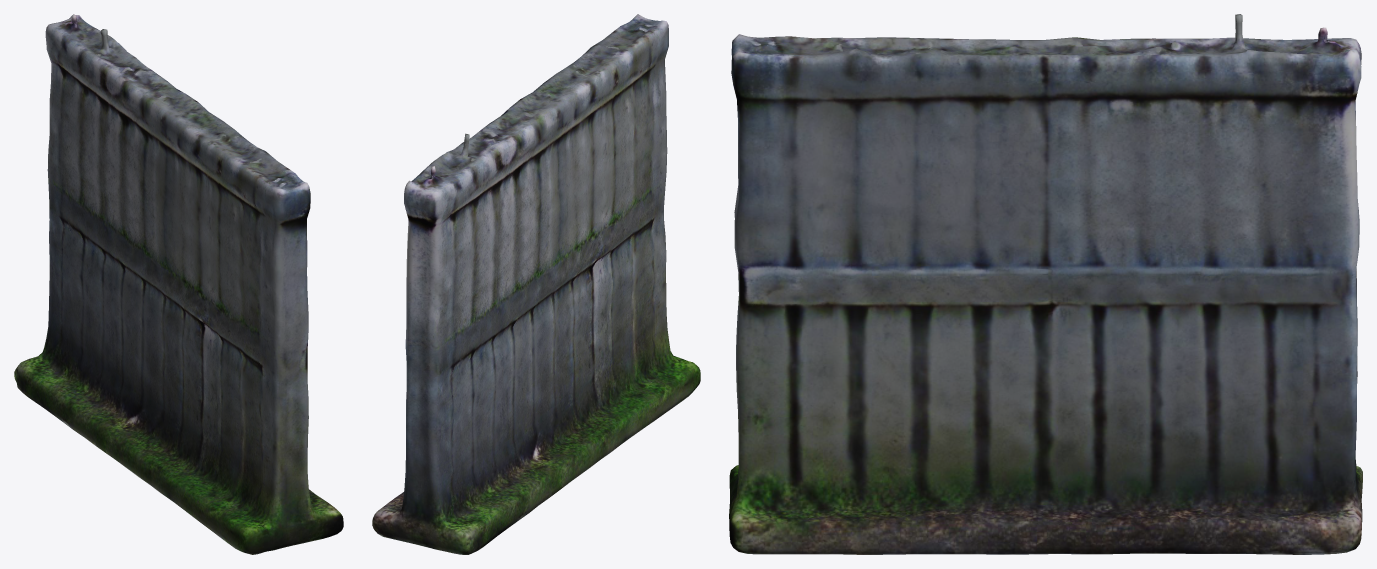
The model's file is concrete_fence.fbx.
The picture shows the model from 3 angles, left to right: view 1: azimuth 30°, elevation 25°; view 2: azimuth 150°, elevation 25°; view 3: azimuth 270°, elevation 25°; orthographic projection. The views are drawn at different scales.
Parts seen in each view (by area): view 1: mesh; view 2: mesh; view 3: mesh.
Boxes of the visible parts, x1,y1,x2,y2 form: mesh: (14,14,343,554); mesh: (372,14,700,554); mesh: (729,14,1362,554).
Size of the model in its own units: 24.38 by 88.39 by 99.92.
